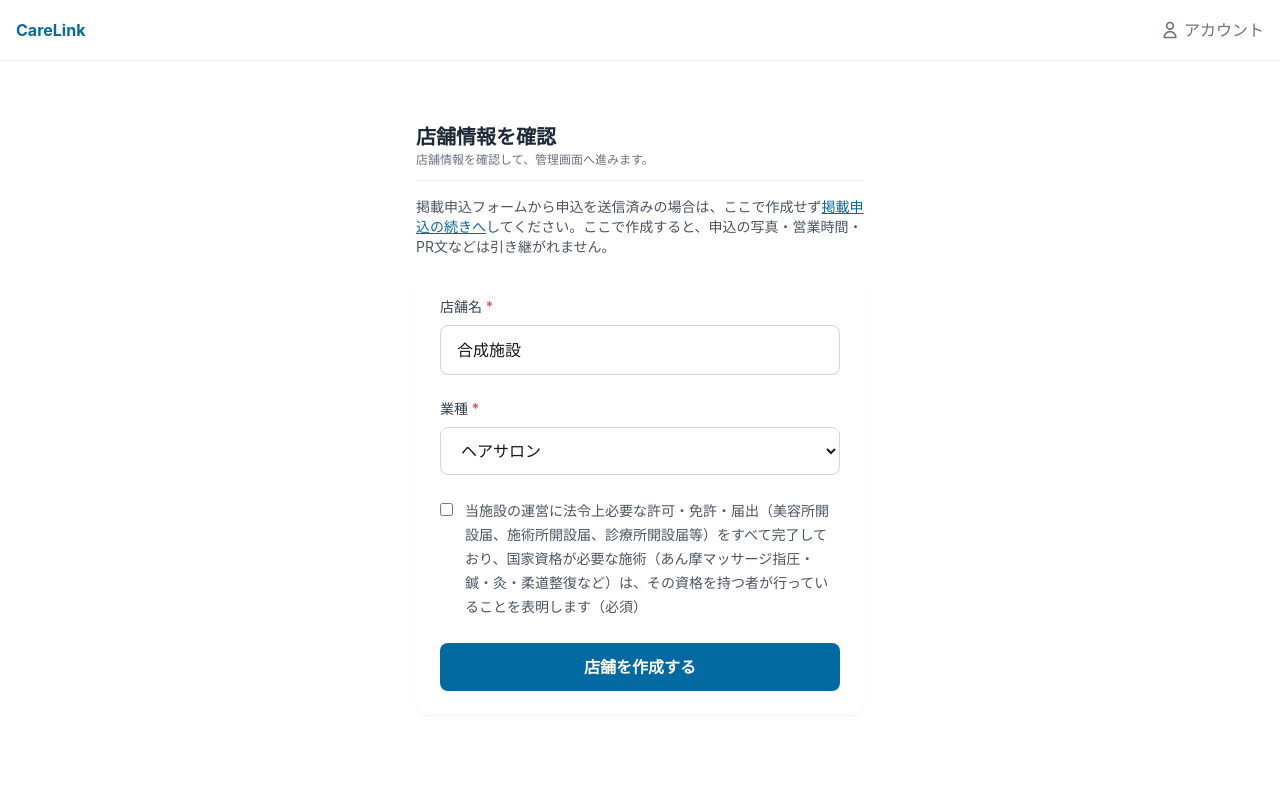
Test: onboarding transport and membership recovery › does not turn invalid business/HTTP success into navigation 0
Expected: the button "店舗を作成する" is shown, [440,643,840,691]
Click the checkbox at {"x": 446, "y": 510}, box [440,503,453,516]
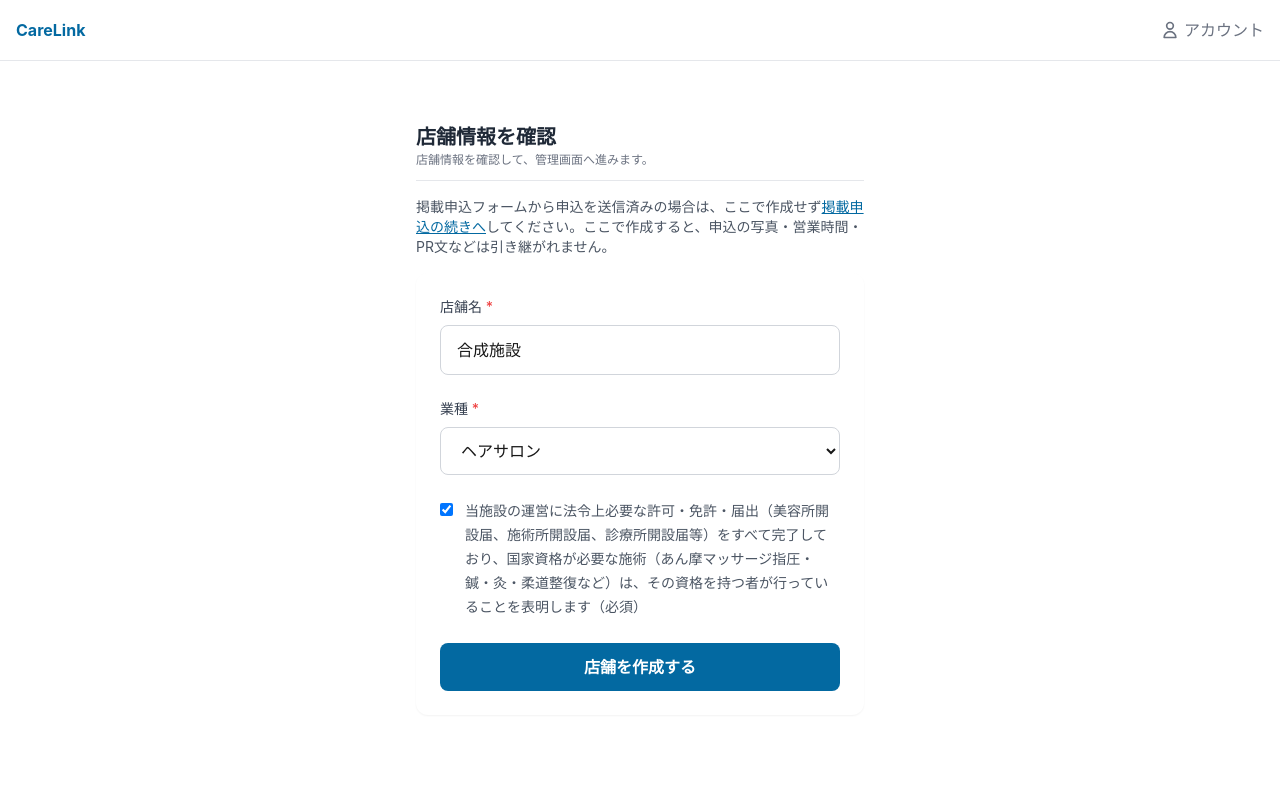
Click the button "店舗を作成する" at {"x": 640, "y": 667}, box [440,643,840,691]
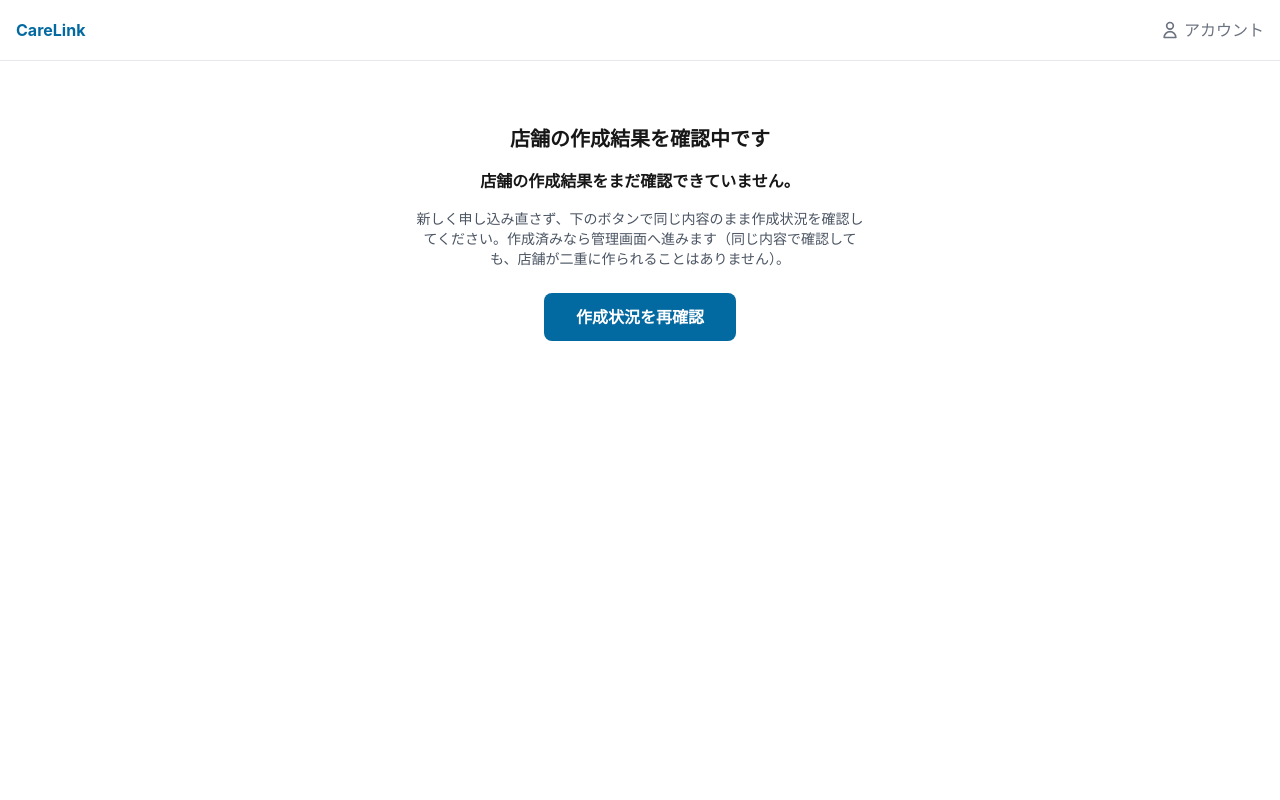
Now the button "作成状況を再確認" is shown, box [544,293,736,341]
